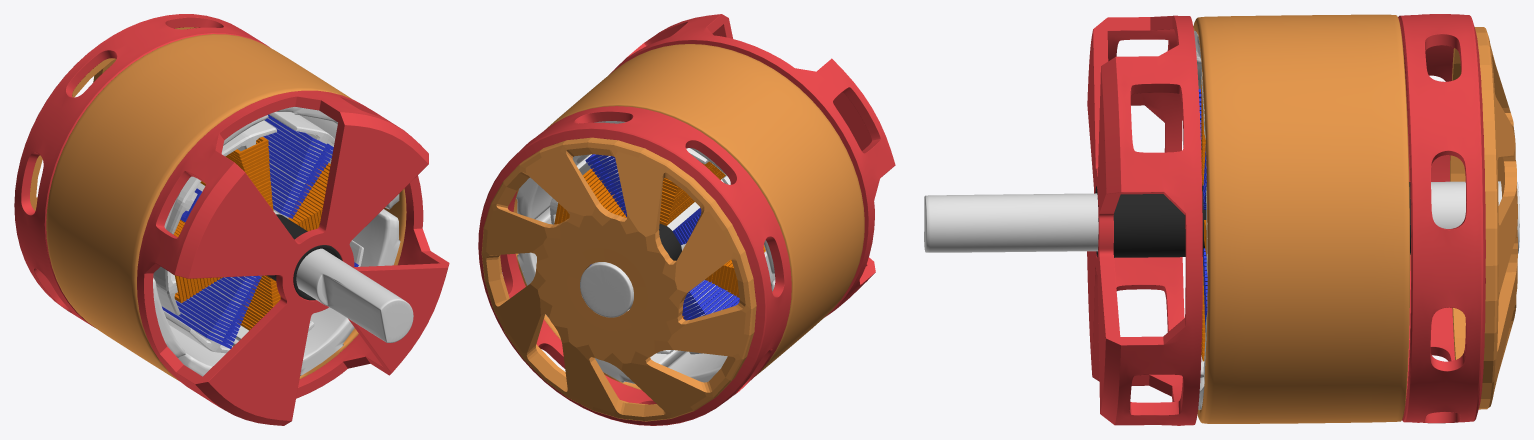
File: motor.glb
The picture shows the model from 3 angles, left to right: view 1: azimuth 30°, elevation 25°; view 2: azimuth 150°, elevation 25°; view 3: azimuth 270°, elevation 25°; orthographic projection. The views are drawn at different scales.
Visible parts, largest first — view 1: top, median, coil4, ring_bottom, magnets, core, rotor, bottom, middle upper shaft; view 2: bottom, median, ring_bottom, top, coil4, magnets, rotor, core, middle upper shaft; view 3: median, top, ring_bottom, rotor, bottom, middle upper shaft, coil4, magnets.
Part boxes in pixels (x1,y1,x2,y2): top: [137, 90, 449, 425]; median: [46, 34, 406, 381]; coil4: [162, 114, 358, 348]; ring_bottom: [14, 14, 269, 327]; magnets: [153, 107, 400, 376]; core: [153, 112, 363, 353]; rotor: [296, 248, 413, 342]; bottom: [30, 27, 198, 210]; middle upper shaft: [267, 214, 342, 300]; bottom: [481, 137, 756, 421]; median: [513, 44, 864, 389]; ring_bottom: [478, 106, 791, 425]; top: [609, 14, 895, 317]; coil4: [554, 154, 765, 320]; magnets: [516, 121, 775, 383]; rotor: [580, 262, 633, 317]; core: [550, 148, 775, 354]; middle upper shaft: [659, 223, 681, 260]; median: [1193, 14, 1410, 423]; top: [1087, 15, 1202, 425]; ring_bottom: [1398, 14, 1485, 423]; rotor: [924, 181, 1519, 253]; bottom: [1450, 27, 1517, 409]; middle upper shaft: [1095, 182, 1410, 257]; coil4: [1198, 80, 1207, 361]; magnets: [1194, 31, 1207, 410].
Bounding box in the file's own units: 1.27 × 1.24 × 1.79.
